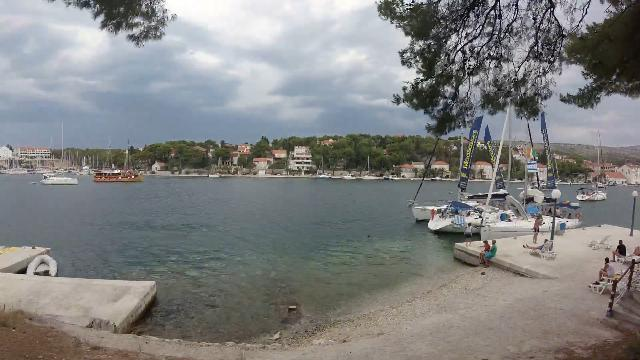Freighter: (89, 163, 147, 185)
Sailboat: (37, 170, 84, 190)
